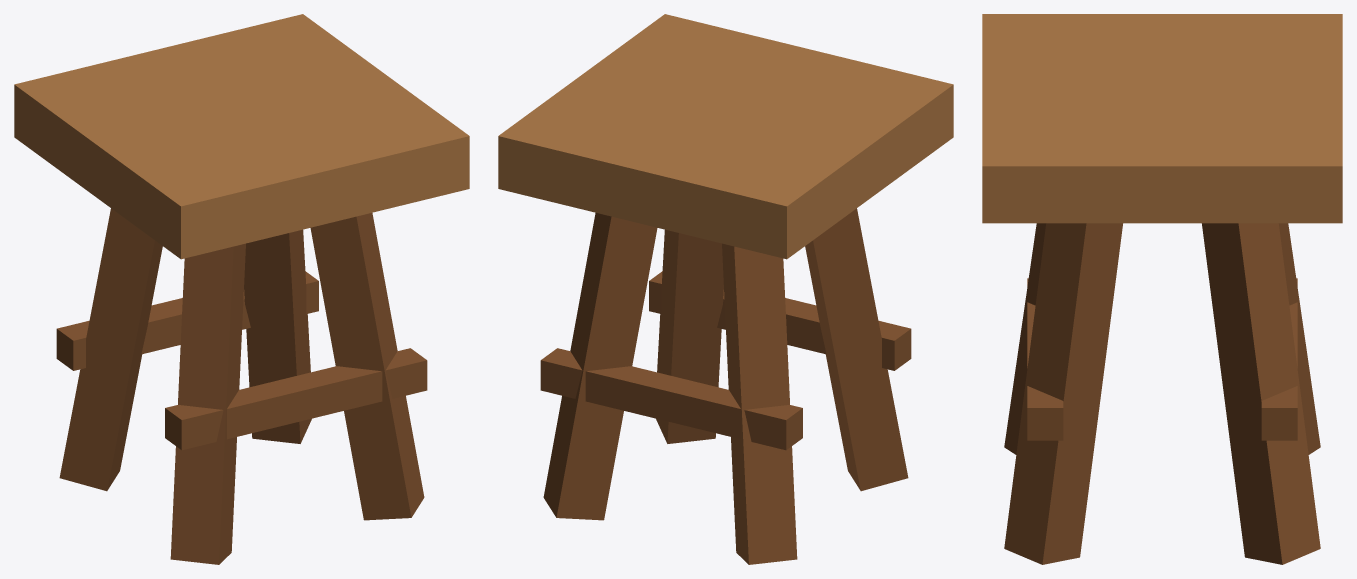
Rendered from Stool.fbx.
3 renders of one model, left to right at view 1: azimuth 30°, elevation 25°; view 2: azimuth 150°, elevation 25°; view 3: azimuth 270°, elevation 25°, orthographic. The views are drawn at different scales.
Parts seen in each view (by area): view 1: Stool; view 2: Stool; view 3: Stool.
Part boxes in pixels (left/top/right/bottom): Stool: left=14, top=14, right=469, bottom=564; Stool: left=498, top=14, right=953, bottom=564; Stool: left=982, top=14, right=1342, bottom=564.
Size of the model in its own units: 0.4 by 0.5102 by 0.4.
